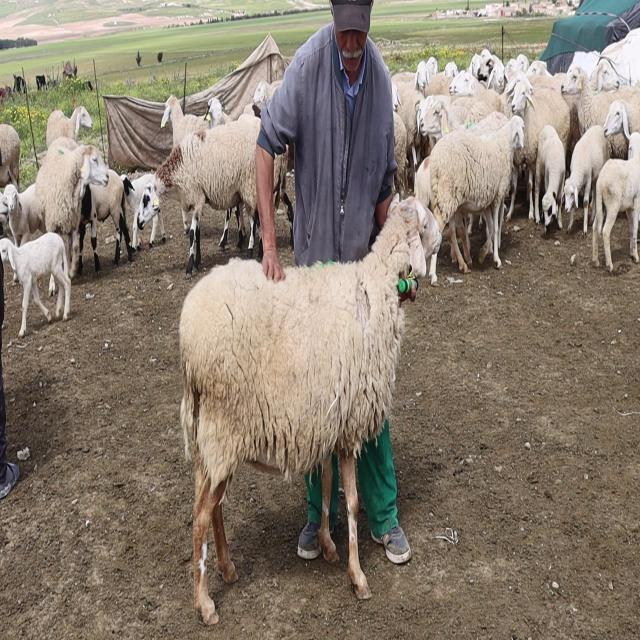Score_3: (179, 197, 442, 623)
